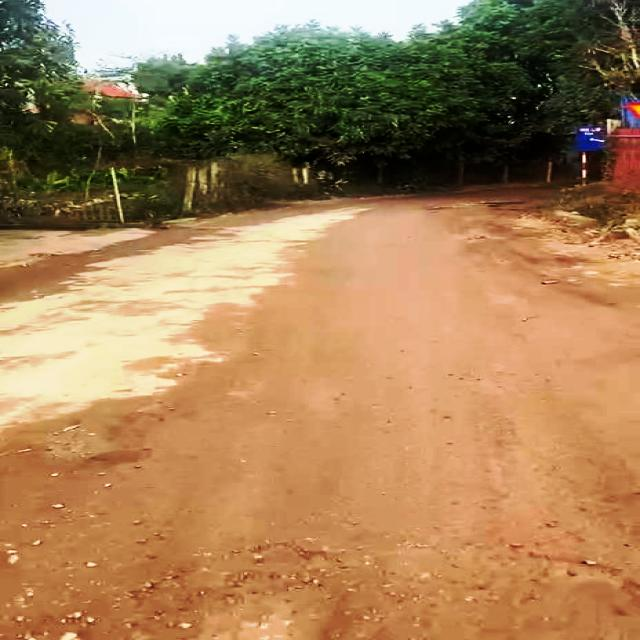pothole: (171, 558, 326, 640)
